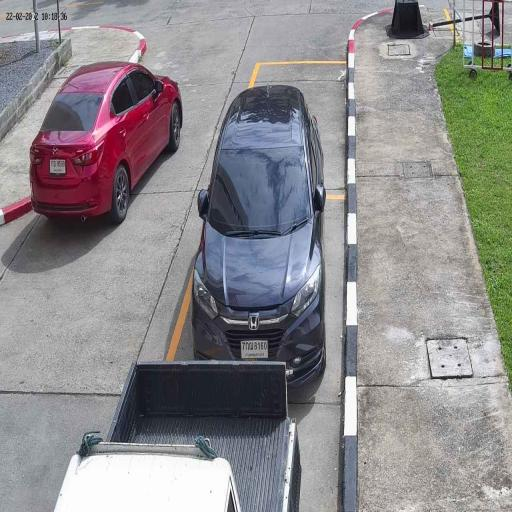car: (189, 83, 329, 389), (53, 358, 303, 512), (28, 58, 186, 228)
